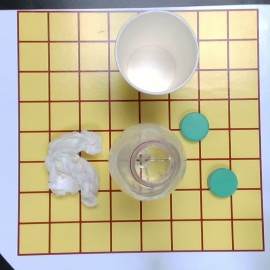bottle: (108, 123, 188, 203)
cup: (114, 10, 201, 98)
green: (178, 112, 210, 142), (207, 168, 238, 197)
